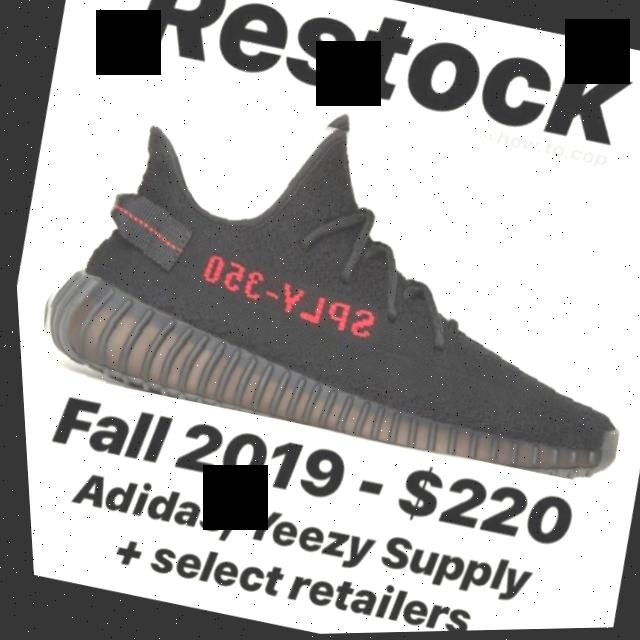shoe: (12, 53, 640, 500)
